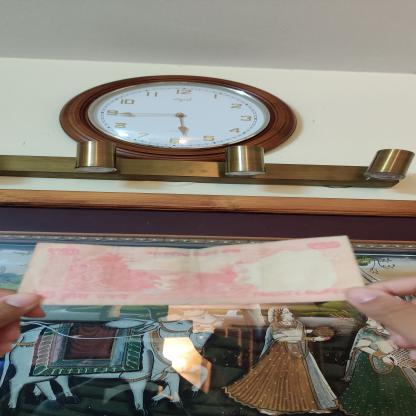Old20Back: (17, 235, 364, 305)
